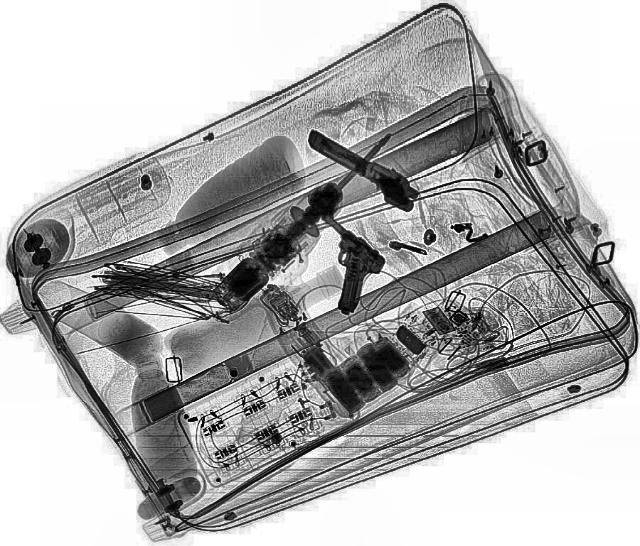Gun: (270, 209, 406, 316), (290, 125, 432, 216)
